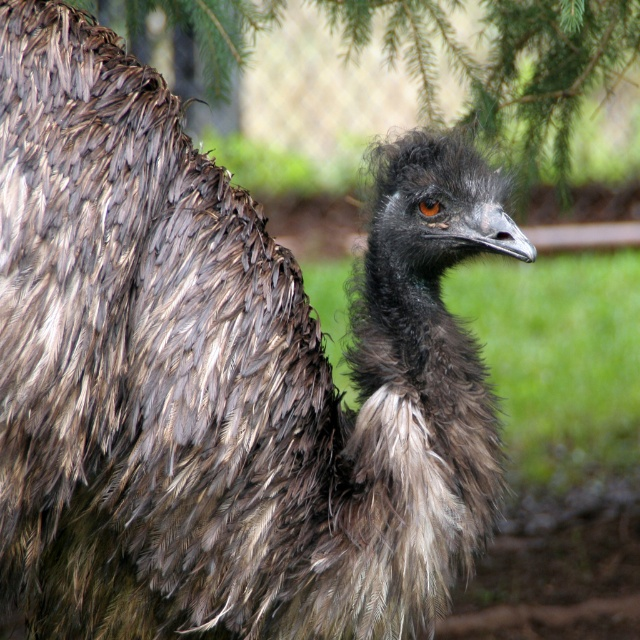Ostrich: (0, 0, 537, 640)
